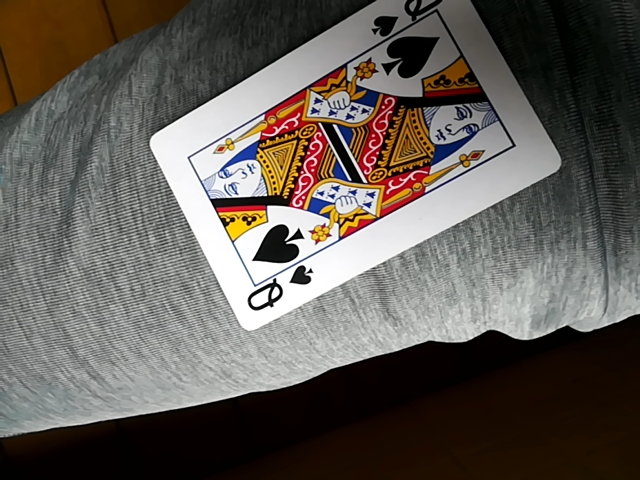ht q: (148, 0, 569, 333)
